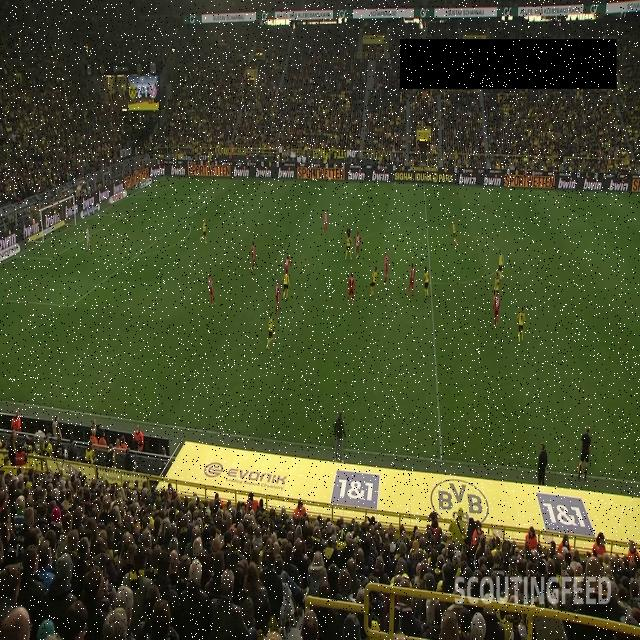Ball: (328, 177, 331, 184)
GoalKeeper: (85, 225, 92, 252)
Referee: (576, 426, 591, 480), (344, 224, 352, 253), (311, 166, 318, 182)
TEAM 1: (207, 273, 217, 307), (407, 263, 416, 298), (347, 271, 355, 305), (382, 252, 390, 286), (274, 281, 282, 314), (494, 292, 501, 328), (249, 240, 256, 272), (284, 254, 291, 281), (355, 231, 361, 259), (322, 211, 328, 234)
TEAM 2: (516, 306, 526, 343), (266, 313, 275, 350), (497, 248, 505, 282), (370, 265, 378, 298), (422, 266, 430, 299), (283, 270, 291, 300), (200, 218, 208, 245), (451, 218, 458, 248), (345, 235, 353, 261), (493, 273, 499, 303)
